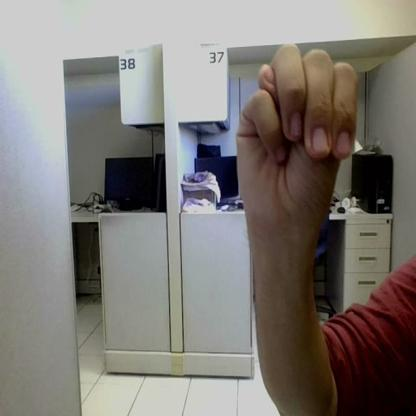M: (237, 43, 357, 224)
